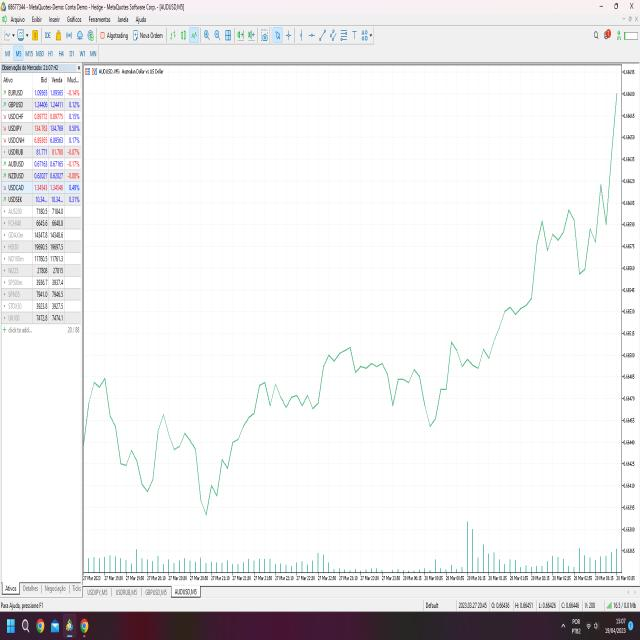fundo_duplo: (107, 411, 165, 515)
